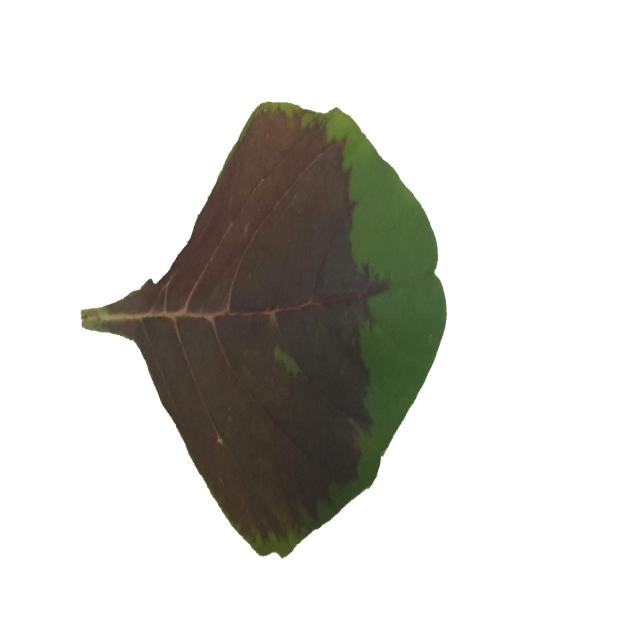Medicinal-Arive Dantu: (77, 96, 449, 566)
